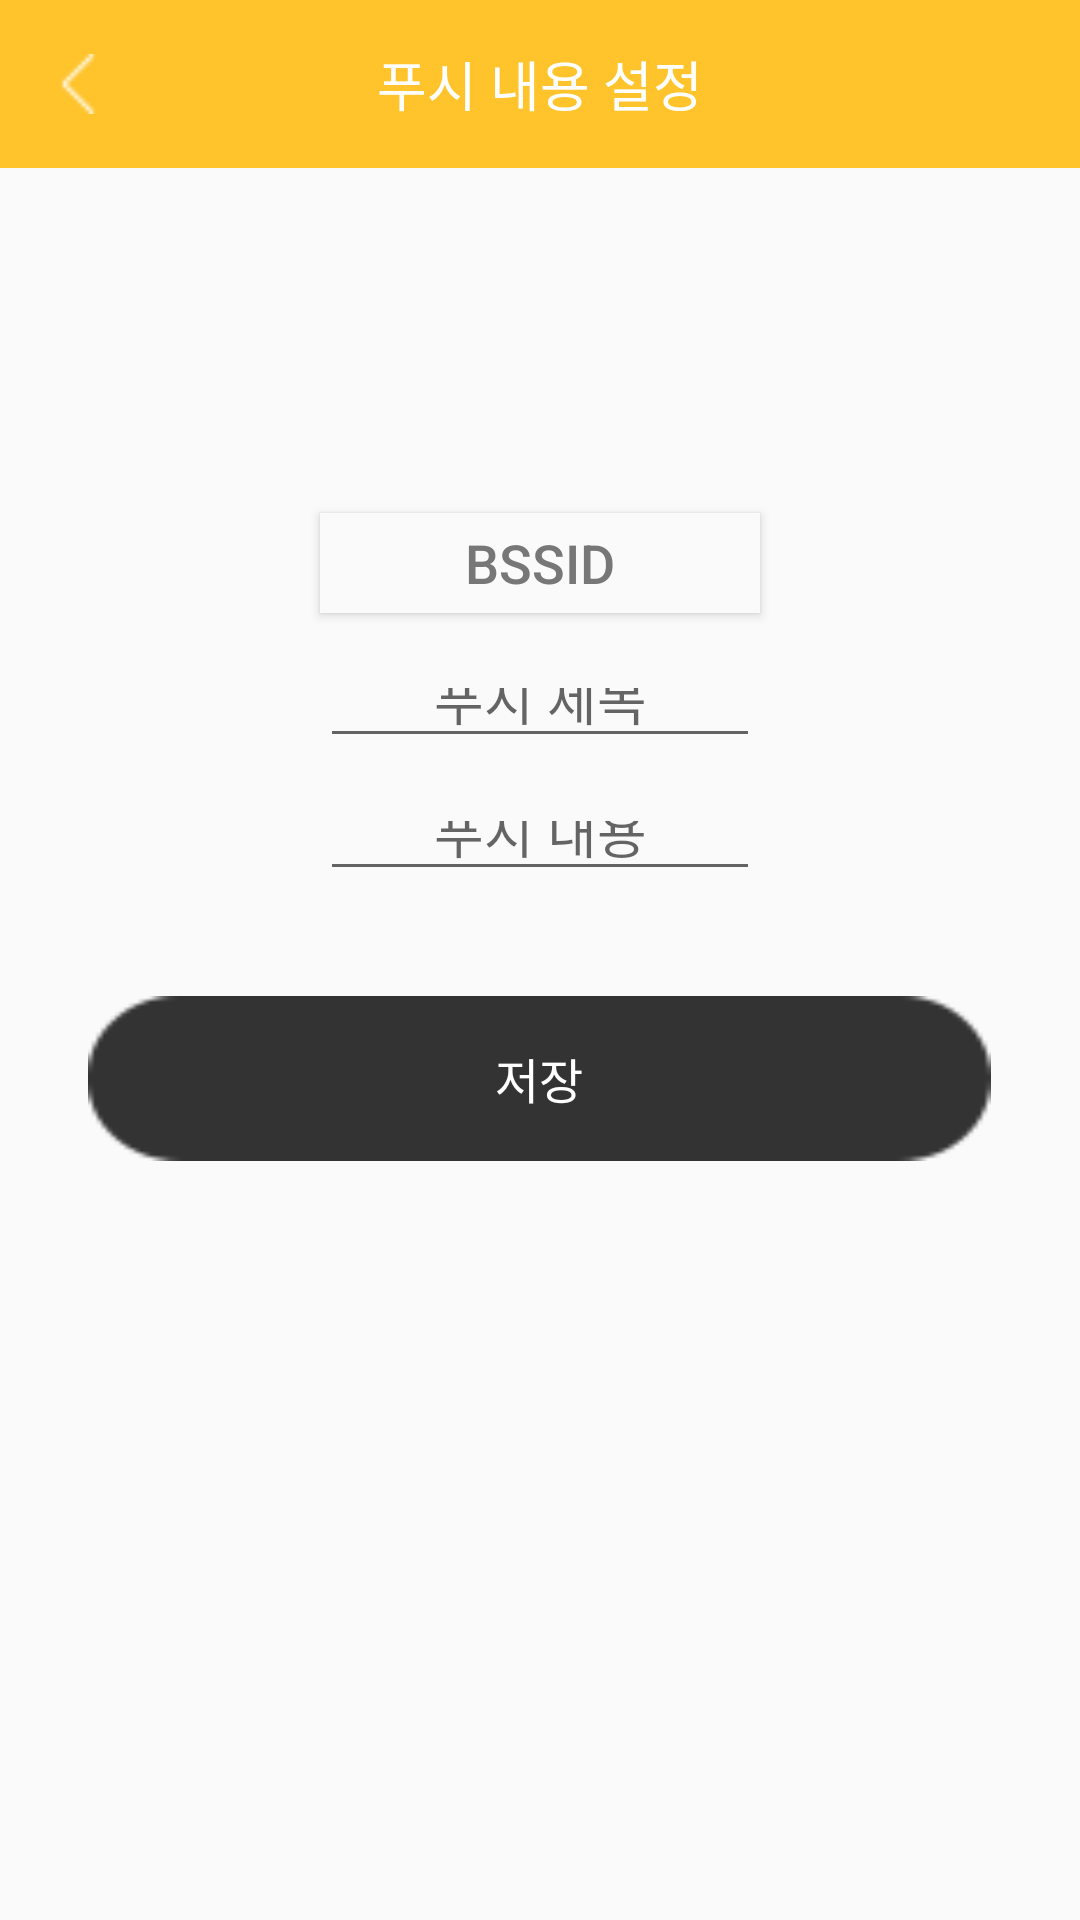

Locate icon controls on the screen. Image size 1080*1920, boxes as {"left": x1, "top": y1, "right": x2, "bottom": y2}.
back: {"left": 62, "top": 54, "right": 95, "bottom": 114}
